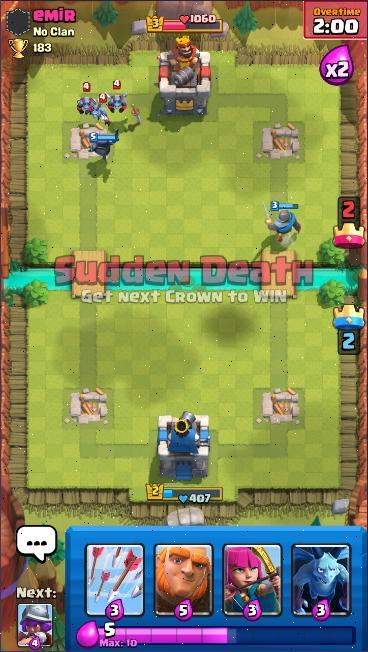EKingTower: (158, 36, 210, 113)
OKnight: (266, 202, 300, 245)
OMiniPekka: (85, 128, 118, 160)
OwnKingTower: (157, 411, 209, 480)
TowerDown: (65, 123, 118, 160), (60, 387, 116, 422), (255, 388, 307, 423), (255, 122, 301, 158)
eminion: (76, 84, 97, 114), (107, 82, 127, 113), (88, 93, 108, 122)
